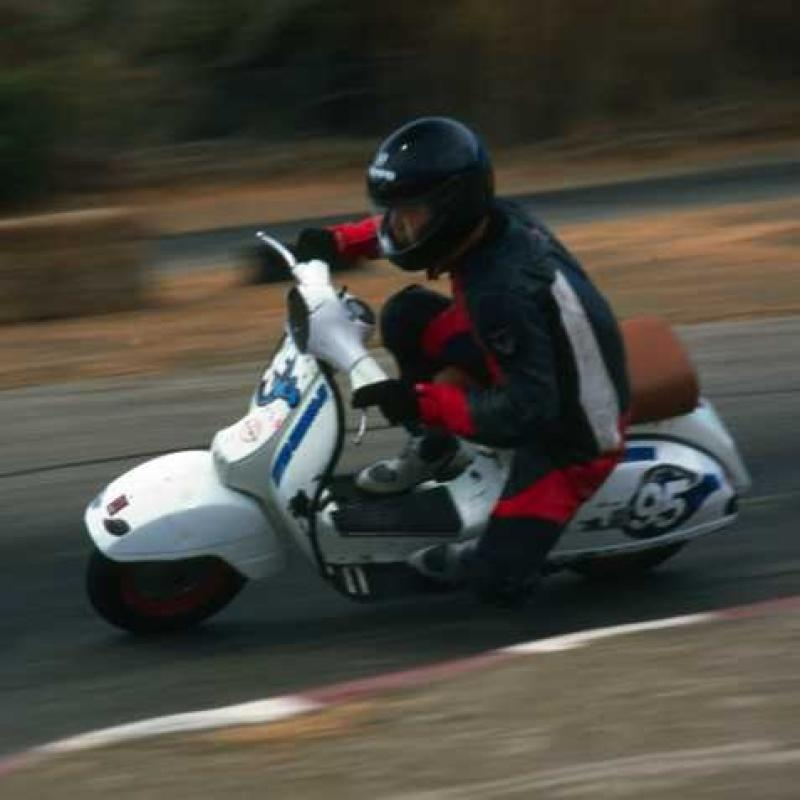bike: (76, 197, 768, 643)
